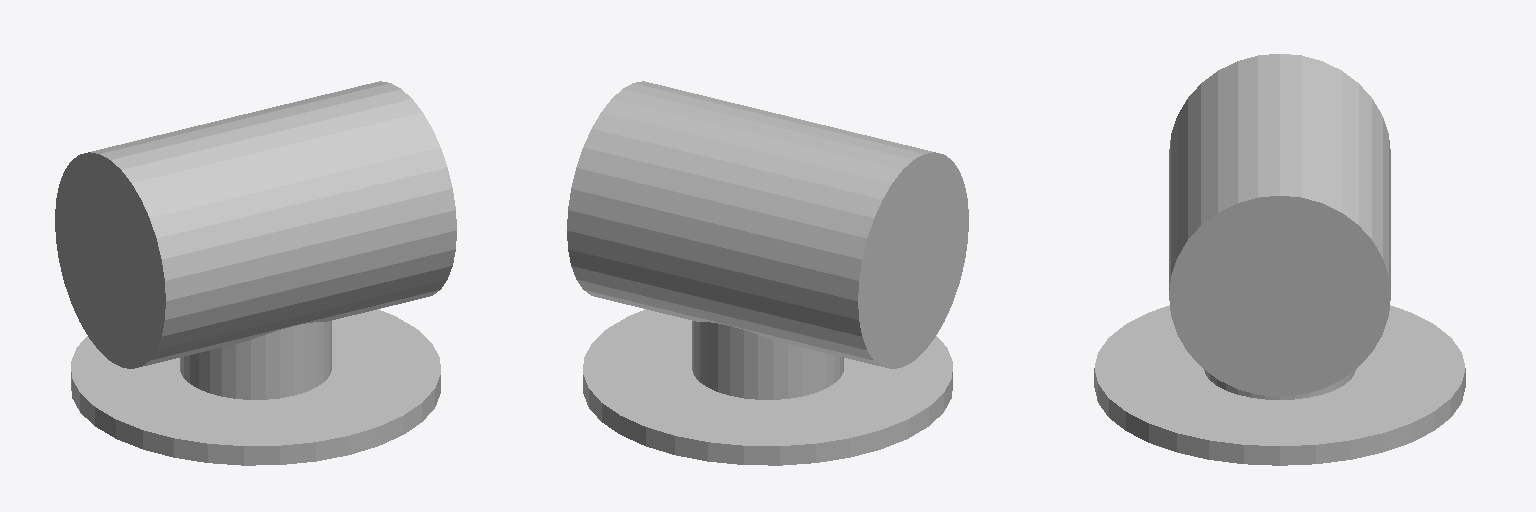
Rendered from lightStand.obj.
3 views of the same model, side by side, from view 1: azimuth 30°, elevation 25°; view 2: azimuth 150°, elevation 25°; view 3: azimuth 270°, elevation 25° (orthographic).
Visible parts, largest first — view 1: 円柱.002; view 2: 円柱.002; view 3: 円柱.002.
Boxes of the visible parts, box(x1,y1,x2,y2) form: 円柱.002: box(55, 81, 456, 465); 円柱.002: box(567, 81, 968, 465); 円柱.002: box(1094, 54, 1465, 465).
Bounding box in the file's own units: 1.62 × 1.27 × 1.62.